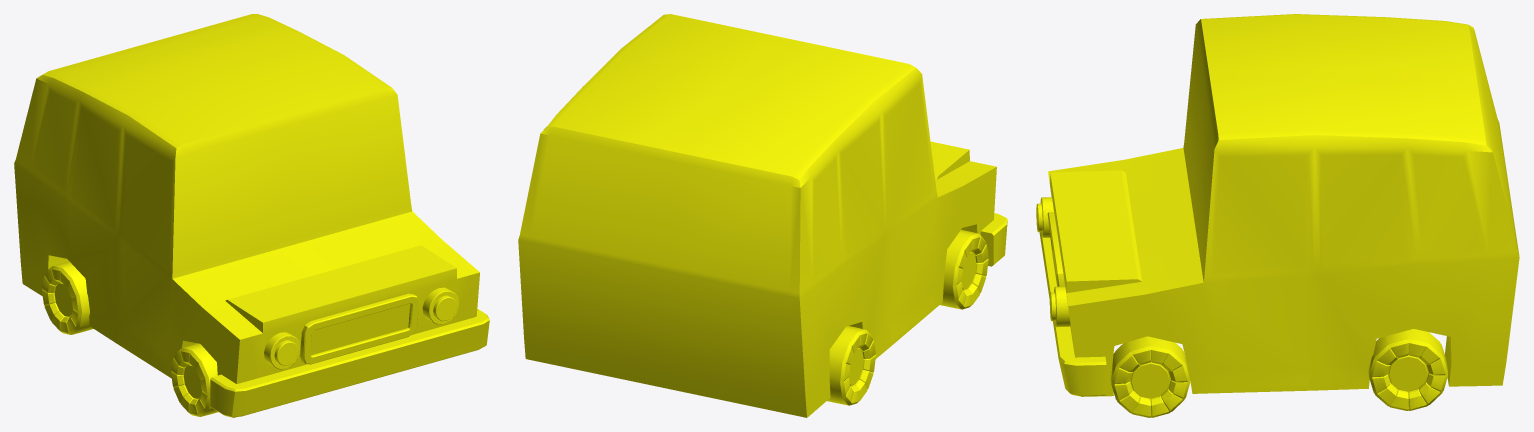
The picture shows the model from 3 angles, left to right: view 1: azimuth 30°, elevation 25°; view 2: azimuth 150°, elevation 25°; view 3: azimuth 270°, elevation 25°; orthographic projection. The views are drawn at different scales.
Parts seen in each view (by area): view 1: military_car; view 2: military_car; view 3: military_car.
Boxes of the visible parts, x1,y1,x2,y2 form: military_car: (14,14,489,417); military_car: (518,14,1007,417); military_car: (1036,14,1519,417).
Size of the model in its own units: 0.0226 by 0.0182 by 0.0295.
1 material, 1 textured.
